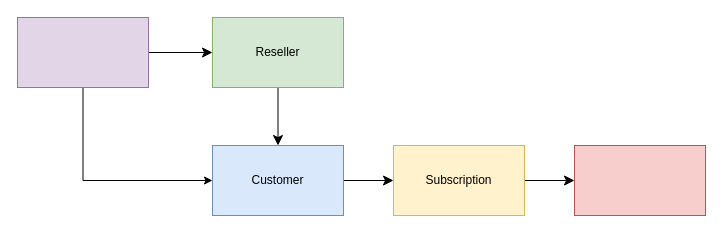
The diagram is 723 pixels wide and 233 high, and some of its shapes have lost their labels. The shapes that lost their labels are listed below. From the top down, each one's box as (x1, y1, x2, y2) in pixels, then its label:
(16, 16, 148, 88): Distributor
(574, 144, 706, 216): Plan
